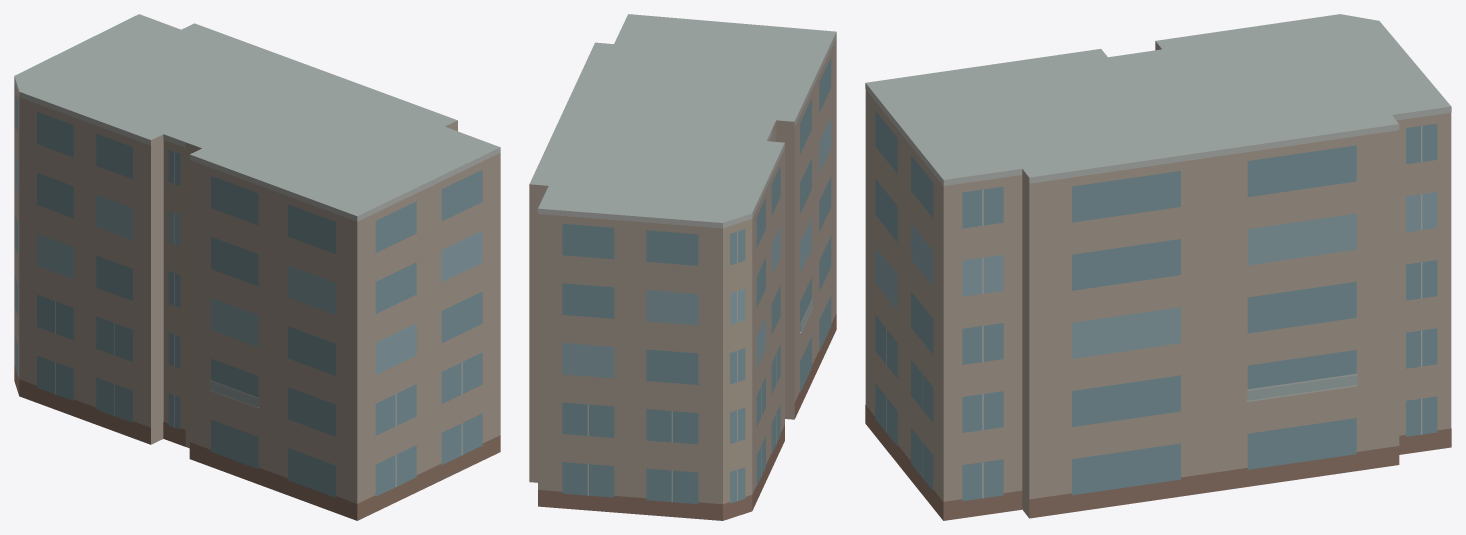
The model's file is survey-upis-32611259.glb.
The picture shows the model from 3 angles, left to right: view 1: azimuth 30°, elevation 25°; view 2: azimuth 150°, elevation 25°; view 3: azimuth 270°, elevation 25°; orthographic projection. The views are drawn at different scales.
Visible parts, largest first — view 1: survey-upis-32611259.tmp; view 2: survey-upis-32611259.tmp; view 3: survey-upis-32611259.tmp.
Boxes of the visible parts, <box> form: survey-upis-32611259.tmp: <box>14,14,500,520</box>; survey-upis-32611259.tmp: <box>529,14,836,520</box>; survey-upis-32611259.tmp: <box>865,14,1451,520</box>.
Size of the model in its own units: 14.11 by 13.5 by 21.04.
